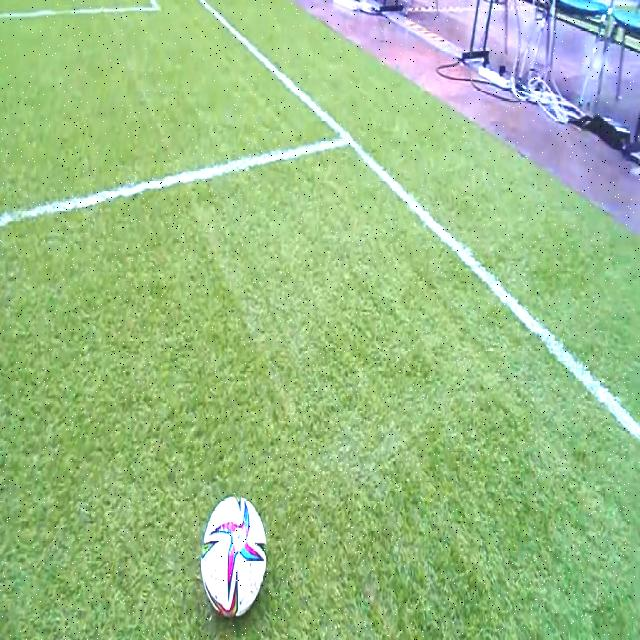ball: (200, 497, 266, 617)
